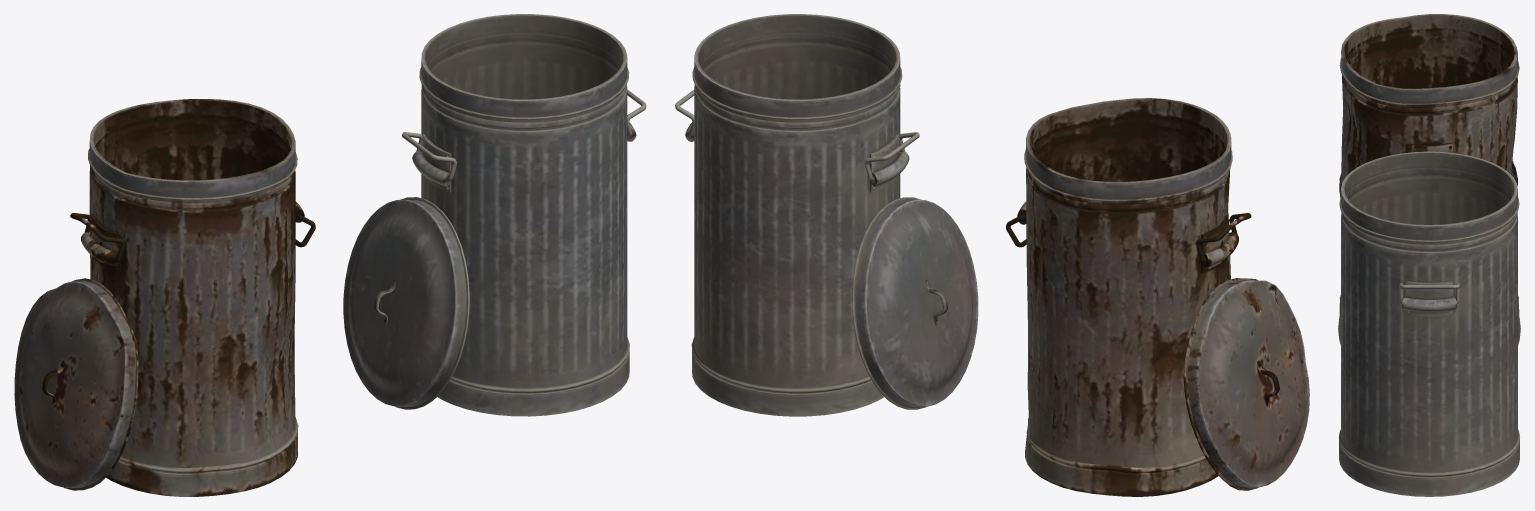
File: metal_trash_can.glb
3 views of the same model, side by side, from view 1: azimuth 30°, elevation 25°; view 2: azimuth 150°, elevation 25°; view 3: azimuth 270°, elevation 25° (orthographic). The views are drawn at different scales.
Parts seen in each view (by area): view 1: metal_trash_can, metal_trash_can_rust, metal_trash_can_lid, metal_trash_can_rust_lid; view 2: metal_trash_can, metal_trash_can_rust, metal_trash_can_lid, metal_trash_can_rust_lid; view 3: metal_trash_can, metal_trash_can_rust, metal_trash_can_handle_right.
Part boxes in pixels (bbox=[...]): metal_trash_can: bbox=[412, 14, 636, 416]; metal_trash_can_rust: bbox=[81, 99, 304, 496]; metal_trash_can_lid: bbox=[343, 197, 469, 409]; metal_trash_can_rust_lid: bbox=[14, 278, 138, 490]; metal_trash_can: bbox=[685, 14, 909, 416]; metal_trash_can_rust: bbox=[1017, 98, 1238, 496]; metal_trash_can_lid: bbox=[852, 197, 978, 409]; metal_trash_can_rust_lid: bbox=[1183, 278, 1309, 490]; metal_trash_can: bbox=[1338, 151, 1519, 496]; metal_trash_can_rust: bbox=[1339, 14, 1519, 316]; metal_trash_can_handle_right: bbox=[1399, 283, 1459, 303].
Bounding box in the file's own units: 1.78 × 0.9062 × 0.5563.
2 materials, 2 textured.
